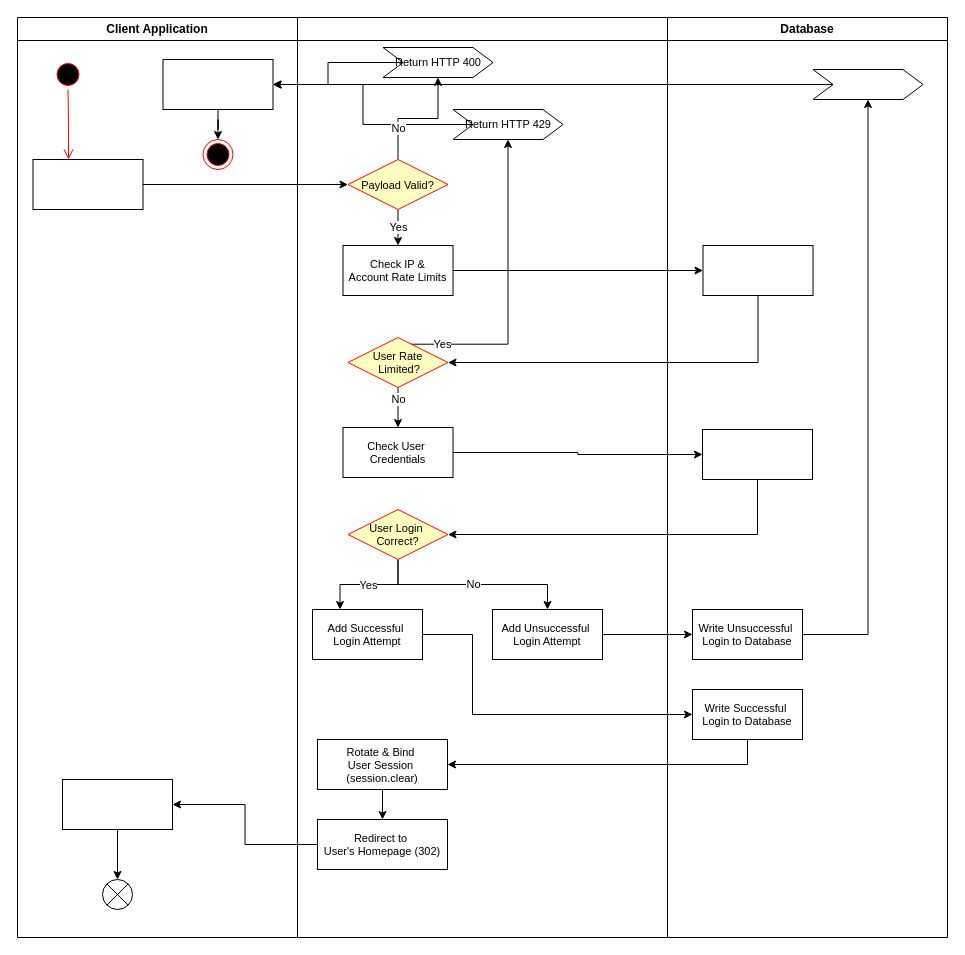
Image size: 965x955. Some labels were removed from this diagram. The shapes that lost their labels are listed below. From the top down, each one's centre as x and y in pixels, then its label:
At point (217, 84): "Display HTTP Error".
At point (867, 84): "Return HTTP 401".
At point (87, 184): "POST username + password".
At point (757, 270): "Query Failed Login Attempt".
At point (757, 454): "Query User Credentials".
At point (482, 477): "Backend".
At point (117, 804): "Display User Homepage".
